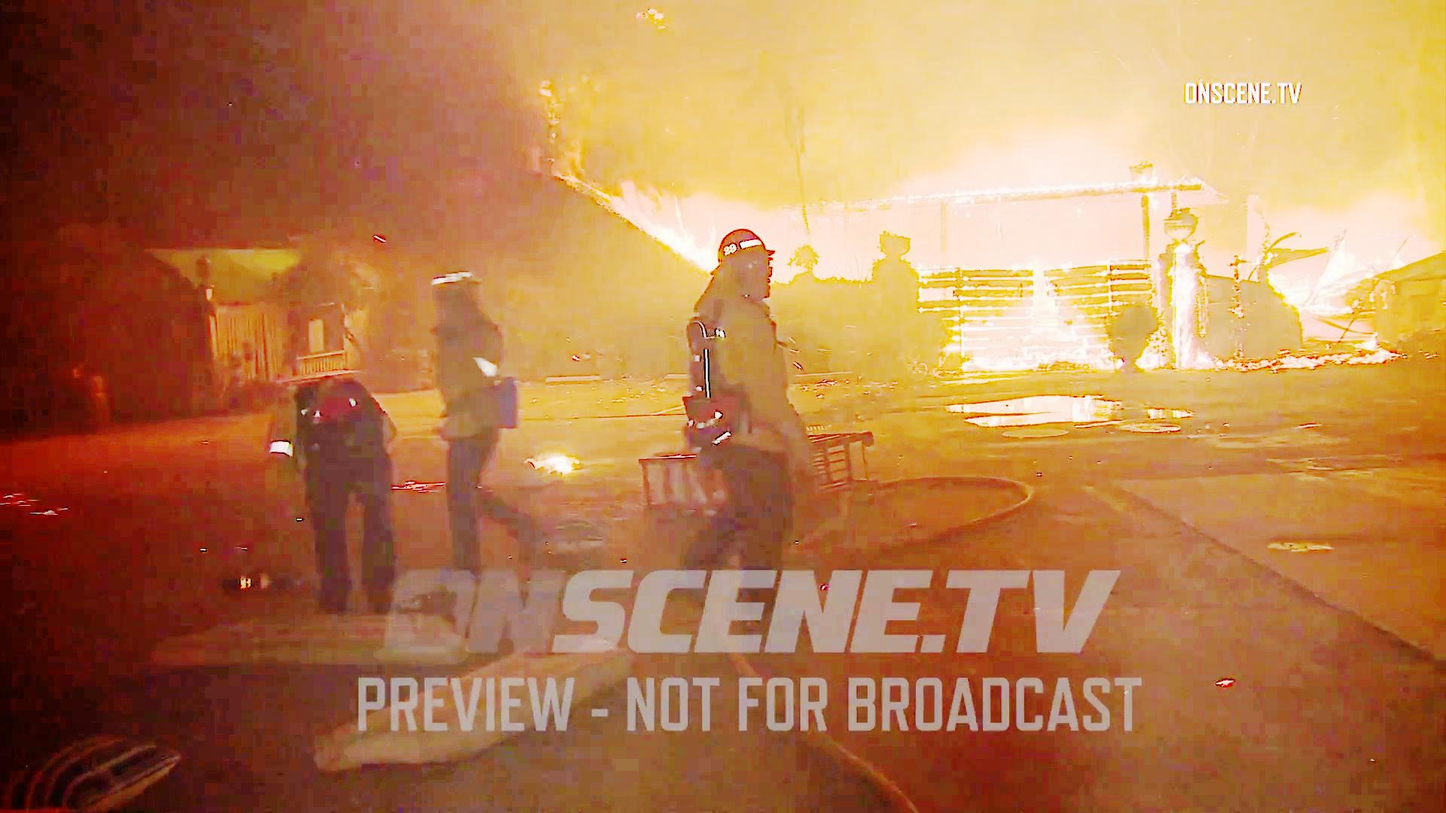fire: (953, 260, 1117, 375), (1273, 213, 1367, 317)
